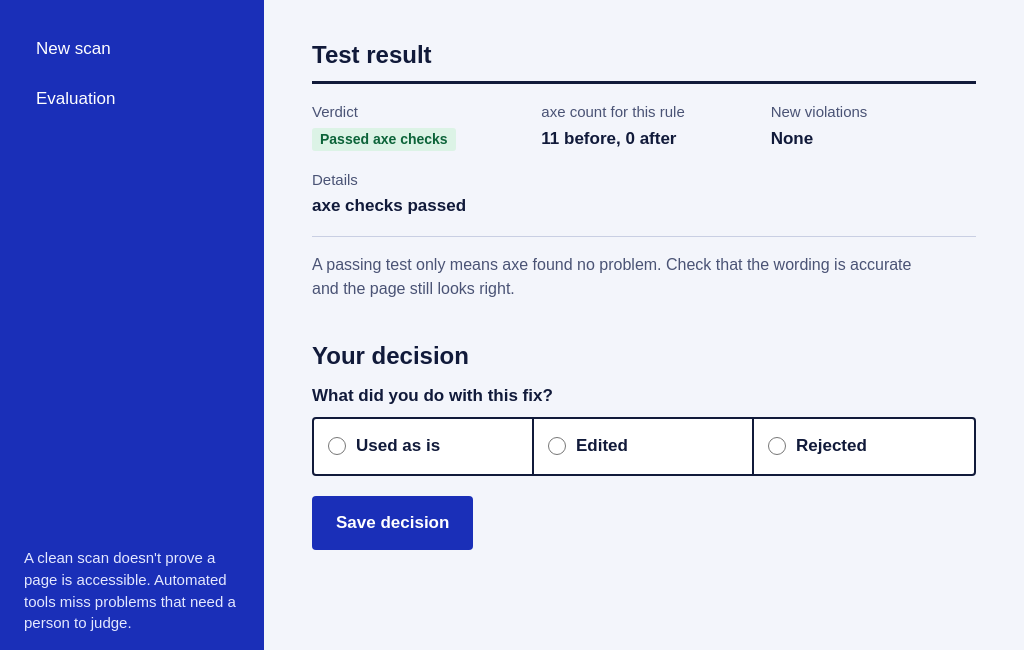
fixing a bad suggestion › sends the reason with Try again and shows the new fix
(page scrolled)
Click the radio button labelled "Rejected" at (777, 446), box [768, 438, 786, 456]
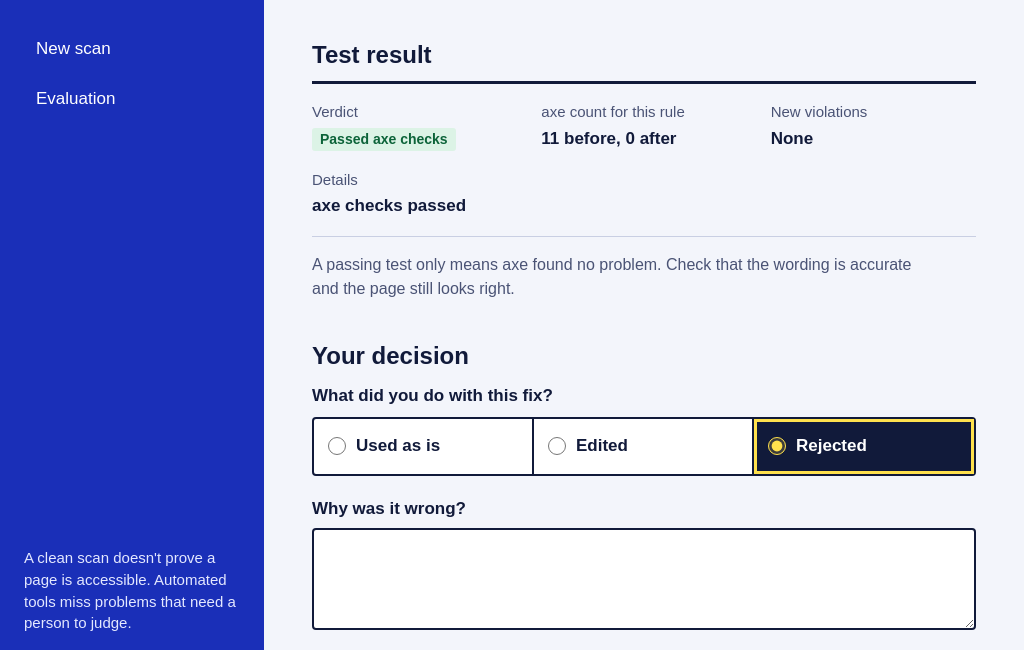
Type "wrong wrapper" into the text box labelled "Why was it wrong?" at (644, 579), box [312, 528, 976, 630]
(page scrolled)
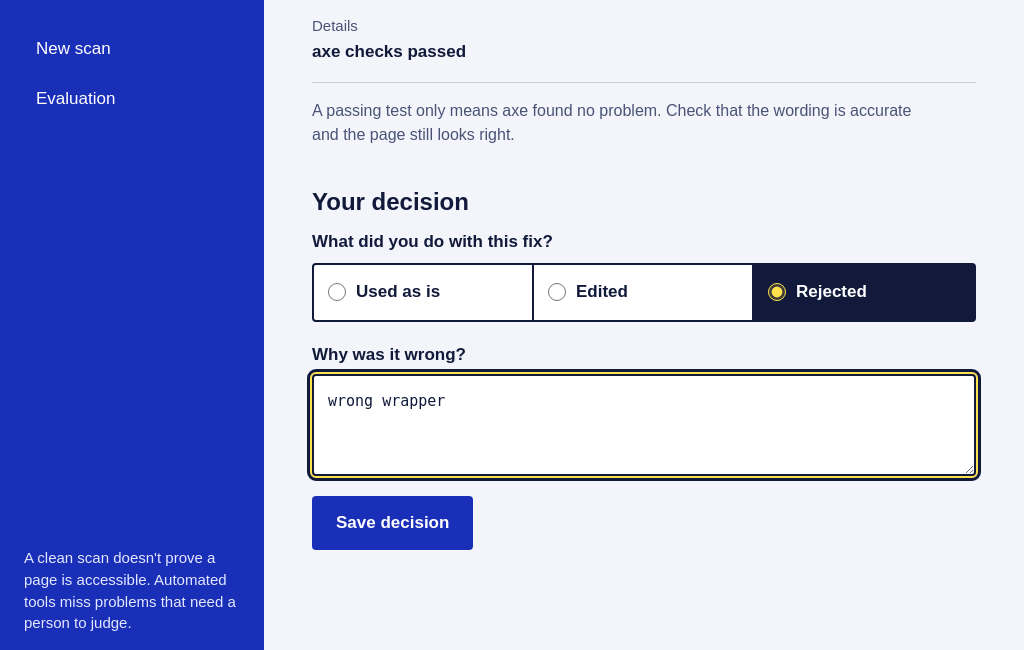
Expected: the button "Try again" is not shown
Click the button "Save decision" at (393, 523), box [312, 496, 473, 550]
(page scrolled)
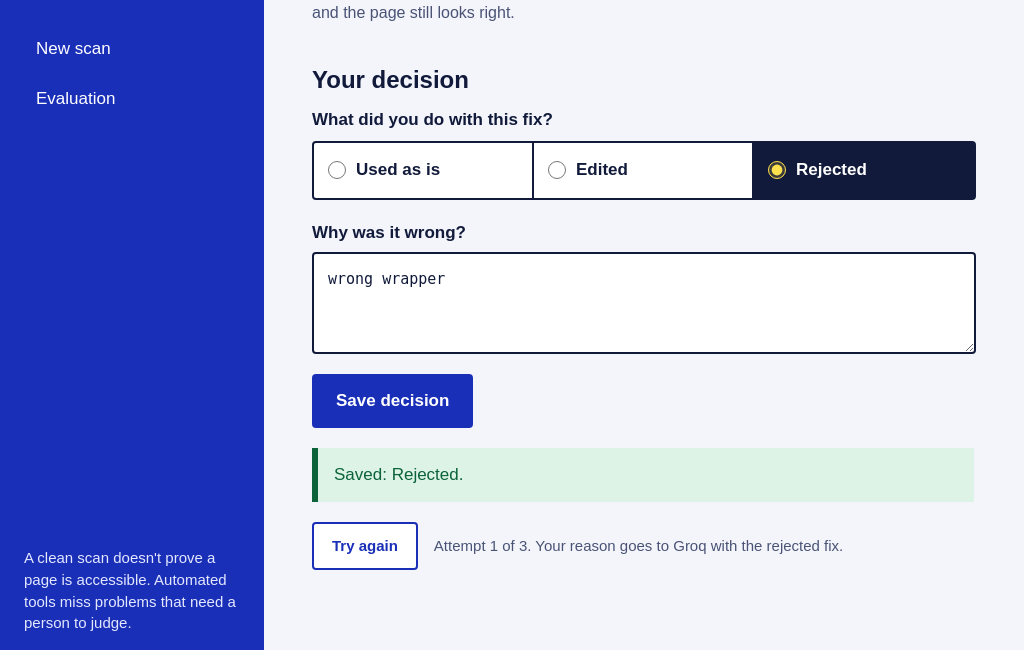
Click the button "Try again" at (365, 546), box [312, 522, 418, 570]
(page scrolled)
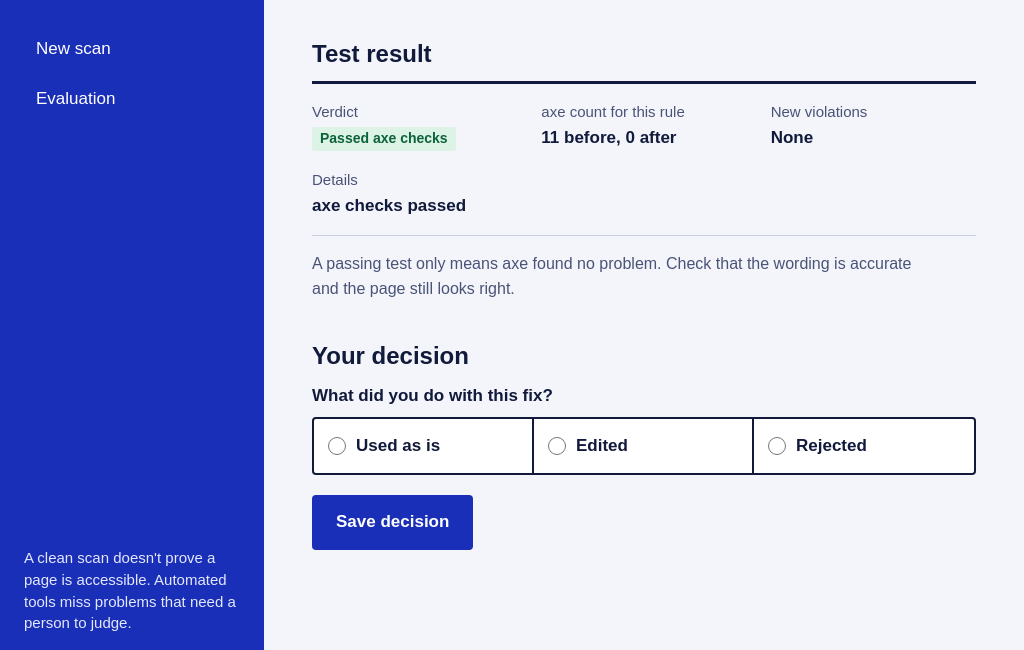
Now the radio button labelled "Rejected" is not checked, box [768, 437, 786, 455]
